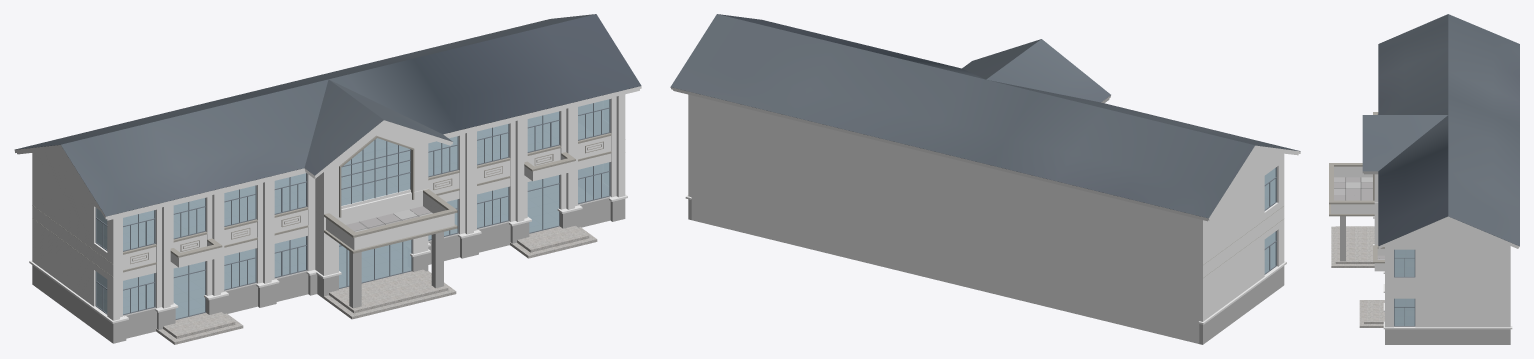
Rendered from building2.gltf.
3 views of the same model, side by side, from view 1: azimuth 30°, elevation 25°; view 2: azimuth 150°, elevation 25°; view 3: azimuth 270°, elevation 25° (orthographic). The views are drawn at different scales.
Parts seen in each view (by area): view 1: 办公楼32; view 2: 办公楼32; view 3: 办公楼32.
Boxes of the visible parts, box(x1,y1,x2,y2) form: 办公楼32: box(14, 14, 641, 344); 办公楼32: box(670, 14, 1300, 344); 办公楼32: box(1329, 14, 1519, 344).
Size of the model in its own units: 31.8 by 9.83 by 12.67.
8 materials, 3 textured.
